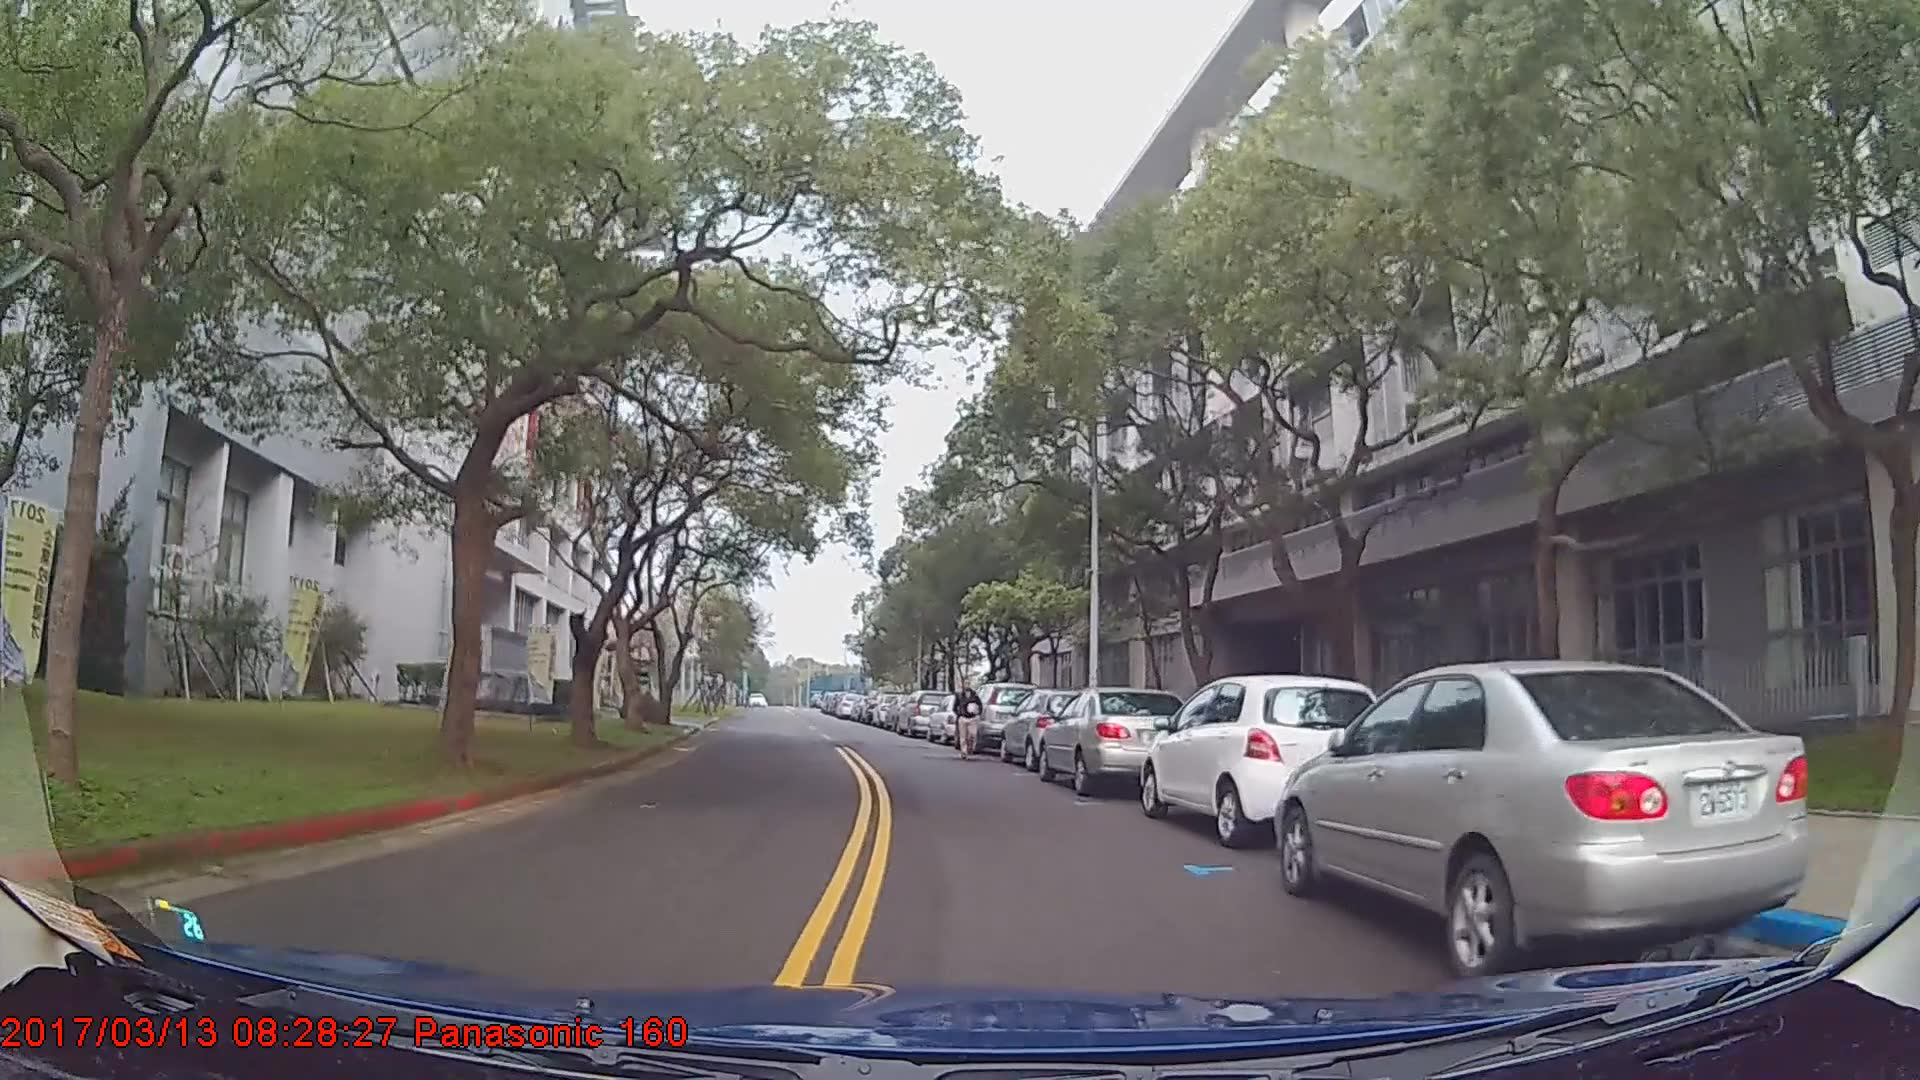pedestrian: (953, 676, 985, 758)
vehicle: (1271, 658, 1814, 983), (1138, 672, 1383, 848), (1038, 686, 1196, 793), (999, 686, 1109, 771), (965, 683, 1035, 753), (895, 689, 950, 736)
